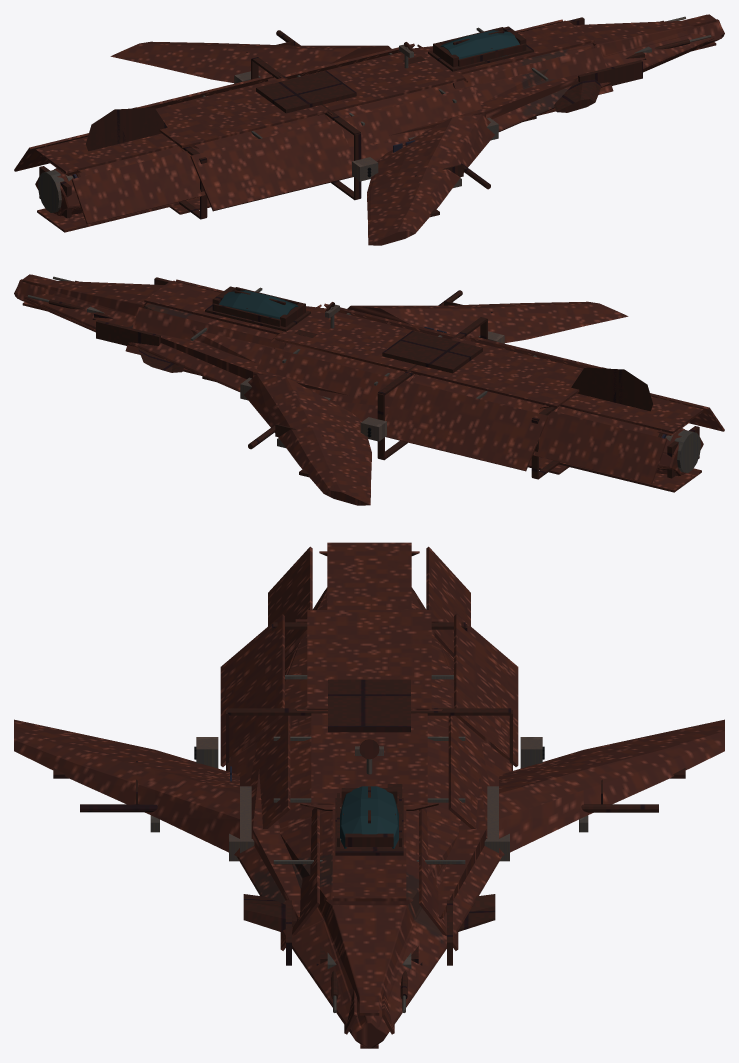
The model's file is ashline_dart_production_v1_lod2.glb.
The picture shows the model from 3 angles, top to bottom: view 1: azimuth 30°, elevation 25°; view 2: azimuth 150°, elevation 25°; view 3: azimuth 270°, elevation 25°; orthographic projection. The views are drawn at different scales.
Visible parts, largest first — view 1: LOD2_Hull, LOD2_Armor, LOD2_Mechanical, LOD2_Canopy; view 2: LOD2_Hull, LOD2_Armor, LOD2_Mechanical, LOD2_Canopy; view 3: LOD2_Hull, LOD2_Armor, LOD2_Mechanical, LOD2_Canopy.
Boxes of the visible parts, x1,y1,x2,y2 form: LOD2_Hull: (14,14,724,245); LOD2_Armor: (39,17,689,219); LOD2_Mechanical: (38,16,711,212); LOD2_Canopy: (440,30,519,59); LOD2_Hull: (14,274,724,505); LOD2_Armor: (49,277,699,479); LOD2_Mechanical: (27,276,700,472); LOD2_Canopy: (219,290,298,319); LOD2_Hull: (14,542,724,1048); LOD2_Armor: (53,622,685,998); LOD2_Mechanical: (150,675,588,1012); LOD2_Canopy: (340,786,398,848).
Size of what is drawn, in the model's own units: 11.7 by 1.69 by 7.8.
Materials: 8 (8 with a texture image).
